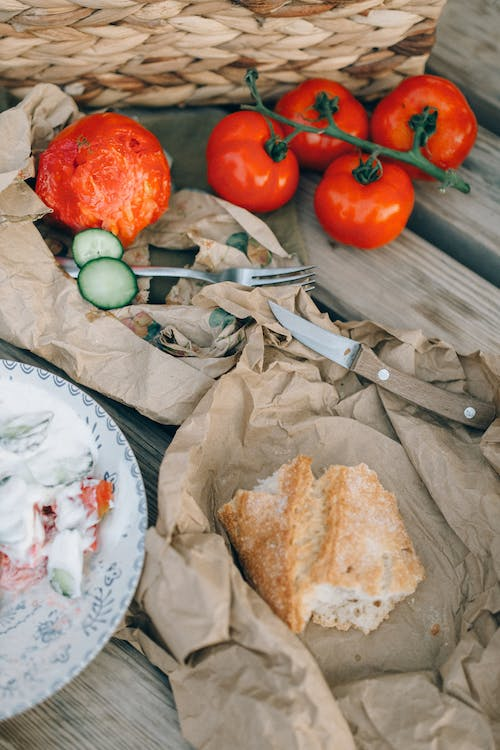knife: (266, 297, 500, 433)
